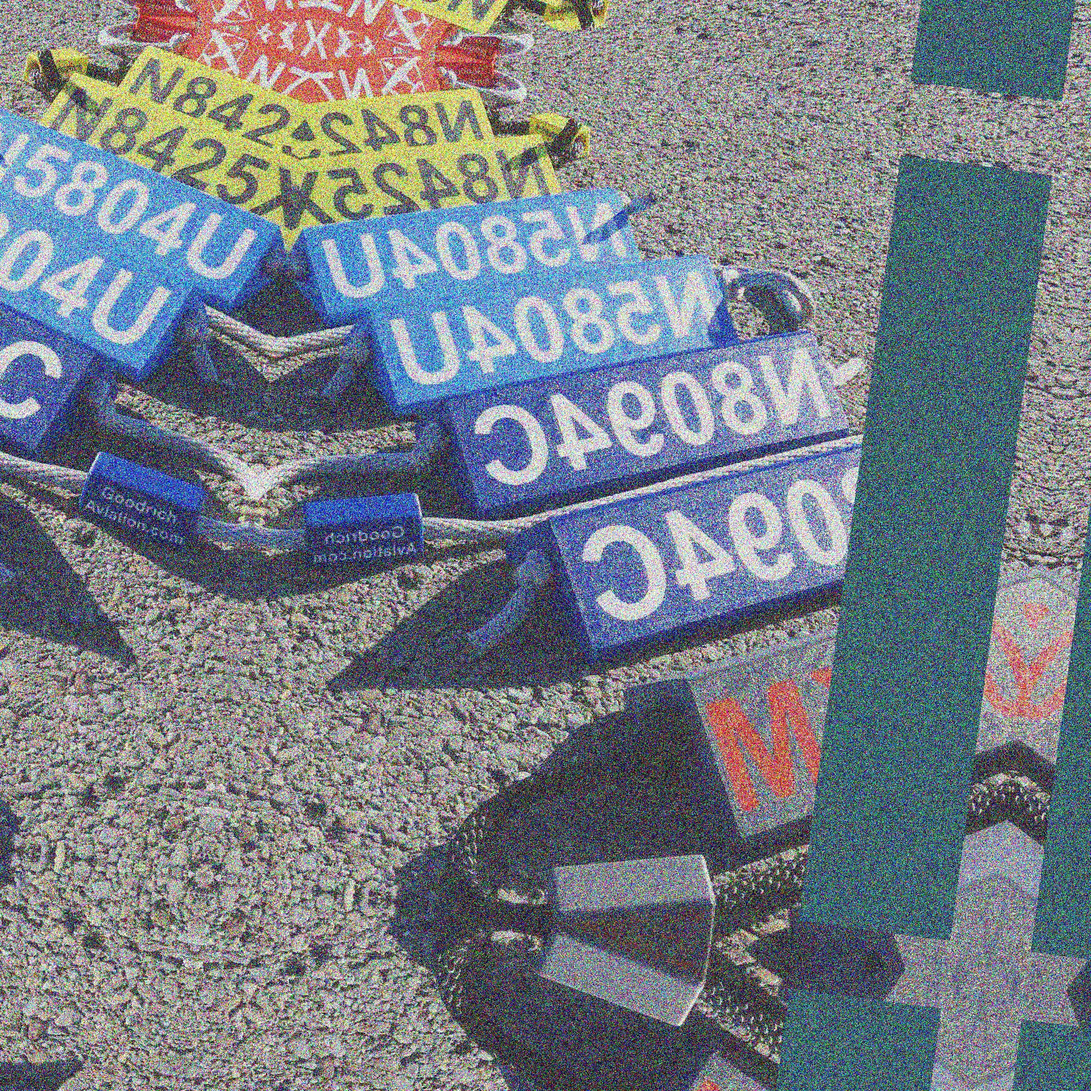chock: (488, 365, 1017, 720), (603, 511, 1039, 894), (400, 280, 865, 571), (335, 209, 749, 465), (280, 144, 656, 366), (0, 96, 301, 319), (0, 139, 226, 395), (14, 63, 308, 247), (288, 100, 582, 283), (783, 792, 1007, 980), (0, 184, 142, 475), (761, 953, 985, 1091), (95, 37, 313, 161), (300, 64, 517, 188), (987, 819, 1091, 1007), (966, 980, 1091, 1091), (319, 0, 536, 42)
